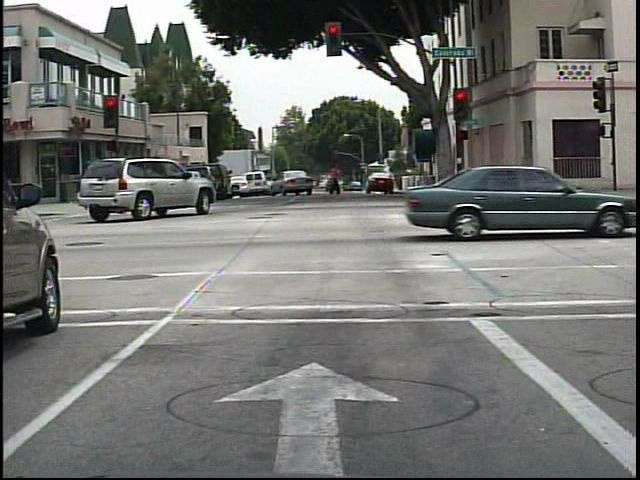person: (324, 157, 347, 201)
